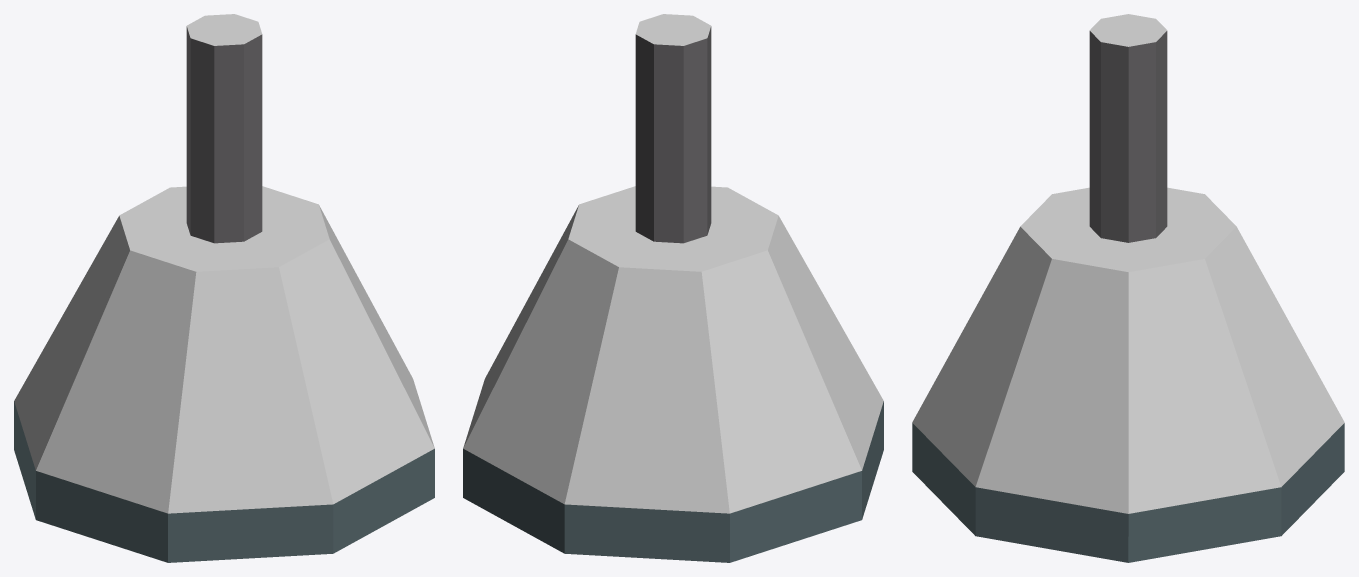
The model's file is scifi_light_4.fbx.
3 views of the same model, side by side, from view 1: azimuth 30°, elevation 25°; view 2: azimuth 150°, elevation 25°; view 3: azimuth 270°, elevation 25° (orthographic).
Parts seen in each view (by area): view 1: Cylinder.004; view 2: Cylinder.004; view 3: Cylinder.004.
Part boxes in pixels (box(x1,y1,x2,y2)): Cylinder.004: box(14, 14, 434, 562); Cylinder.004: box(463, 14, 883, 562); Cylinder.004: box(912, 14, 1344, 562).
Size of the model in its own units: 0.4 by 0.45 by 0.4.
